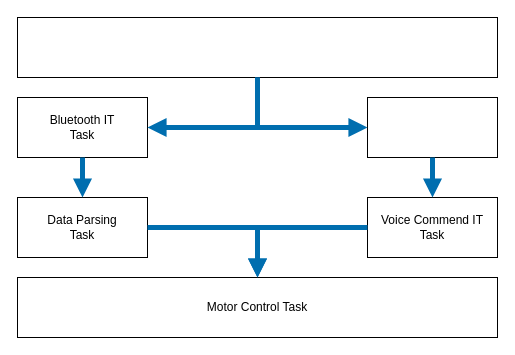
Some shapes in this 515 by 355 pixel diagram are drawn without their labels. The shapes that lost their labels are listed below. From the top down, each one's box as (x1, y1, x2, y2) in pixels, then its label:
(16, 16, 498, 78): Input (Bluetooth Receive) (External voice)
(366, 96, 498, 158): Get Voice Commend Task
